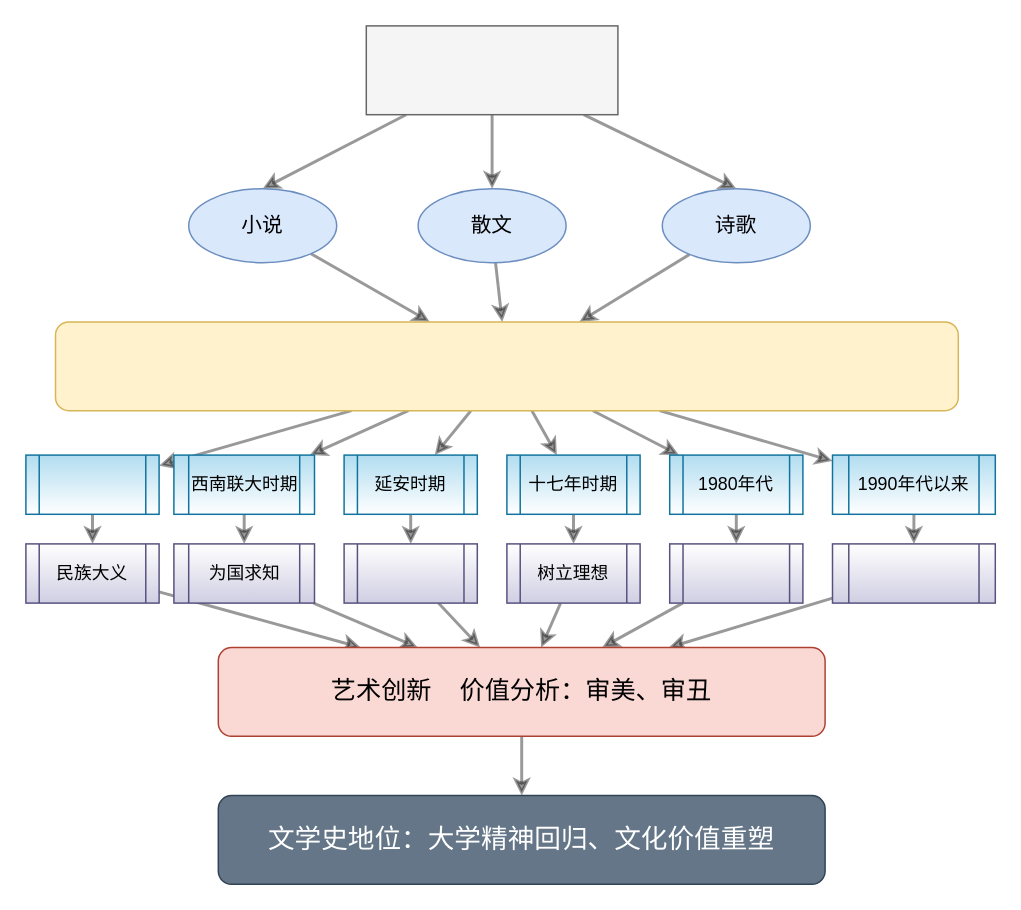
Image size: 1021x910. Some labels were removed from this diagram. Each missing label, with the centre of its shape:
五四时期: the point at 91,484
内容展示与特征呈现: the point at 506,365
向往光明: the point at 410,572
多元低迷: the point at 913,572
百年中国大学校园文字: the point at 491,69
精神解放: the point at 735,572
